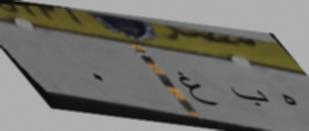0: (86, 63, 114, 90)
baa: (226, 83, 270, 108)
ghayn: (177, 68, 220, 113)
haa: (280, 85, 298, 117)
